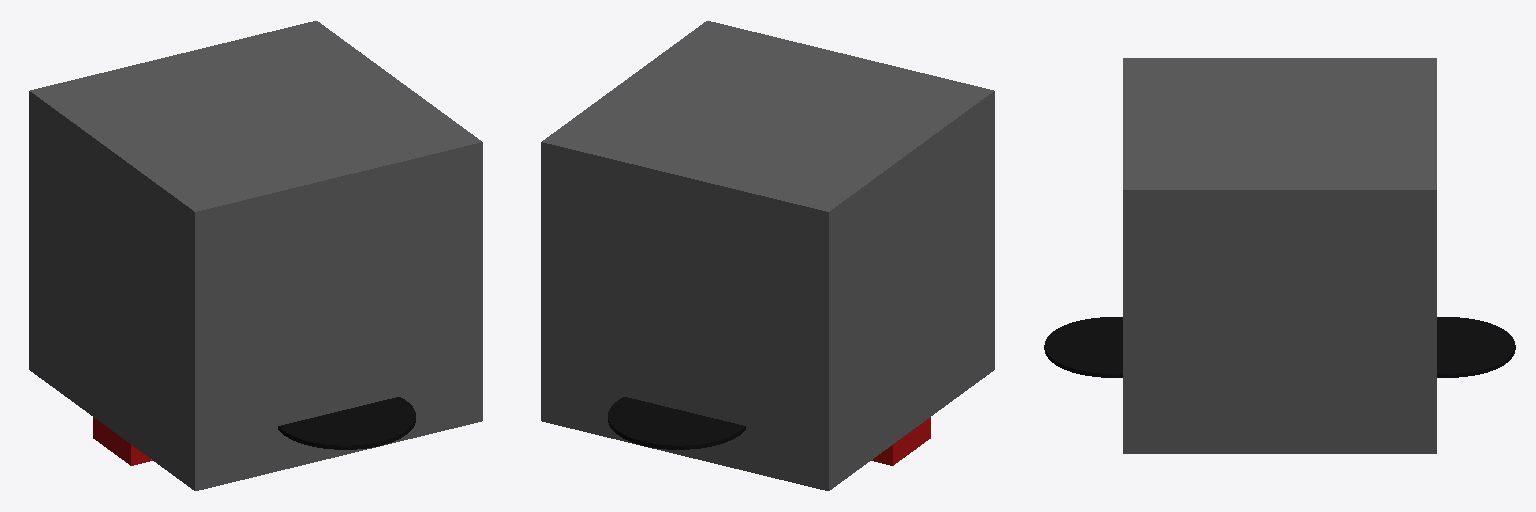
robot.urdf — little_car:
<?xml version="1.0"?>
<robot name="little_car">
  <material name="body_gray"><color rgba="0.4 0.4 0.4 1.0"/></material>
  <material name="wheel_black"><color rgba="0.1 0.1 0.1 1.0"/></material>
  <material name="support_red"><color rgba="0.7 0.1 0.1 1.0"/></material>

  <link name="base_footprint"/>

  <link name="chassis">
    <visual>
      <origin xyz="0 0 0" rpy="0 0 0"/>
      <geometry><mesh filename="../meshes/chassis_top.obj"/></geometry>
      <material name="body_gray"/>
    </visual>
    <visual>
      <origin xyz="0.017500 0.000000 0.000000" rpy="0 0 0"/>
      <geometry><box size="0.035000 0.070000 0.065000"/></geometry>
      <material name="body_gray"/>
    </visual>
    <visual>
      <origin xyz="-0.017500 0.000000 0.000000" rpy="0 0 0"/>
      <geometry><box size="0.035000 0.070000 0.065000"/></geometry>
      <material name="body_gray"/>
    </visual>
    <collision>
      <origin xyz="0.017500 0.000000 0.000000" rpy="0 0 0"/>
      <geometry><box size="0.035000 0.070000 0.065000"/></geometry>
    </collision>
    <collision>
      <origin xyz="-0.017500 0.000000 0.000000" rpy="0 0 0"/>
      <geometry><box size="0.035000 0.070000 0.065000"/></geometry>
    </collision>
    <inertial>
      <origin xyz="0.000000 0.000000 0.000000" rpy="0 0 0"/>
      <mass value="0.350000"/>
      <inertia ixx="0.000266146" ixy="0" ixz="0" iyy="0.000266146" iyz="0" izz="0.000285833"/>
    </inertial>
  </link>

  <link name="left_wheel">
    <visual>
      <origin xyz="0 0 0" rpy="0 1.57079632679 0"/>
      <geometry><mesh filename="../meshes/wheel.obj"/></geometry>
      <material name="wheel_black"/>
    </visual>
    <collision>
      <origin xyz="0 0 0" rpy="1.57079632679 0 0"/>
      <geometry><cylinder radius="0.015000" length="0.001000"/></geometry>
    </collision>
    <inertial>
      <origin xyz="0 0 0" rpy="0 0 0"/>
      <mass value="0.050000"/>
      <inertia ixx="0.000002817" ixy="0" ixz="0" iyy="0.000005625" iyz="0" izz="0.000002817"/>
    </inertial>
  </link>

  <link name="right_wheel">
    <visual>
      <origin xyz="0 0 0" rpy="0 1.57079632679 0"/>
      <geometry><mesh filename="../meshes/wheel.obj"/></geometry>
      <material name="wheel_black"/>
    </visual>
    <collision>
      <origin xyz="0 0 0" rpy="1.57079632679 0 0"/>
      <geometry><cylinder radius="0.015000" length="0.001000"/></geometry>
    </collision>
    <inertial>
      <origin xyz="0 0 0" rpy="0 0 0"/>
      <mass value="0.050000"/>
      <inertia ixx="0.000002817" ixy="0" ixz="0" iyy="0.000005625" iyz="0" izz="0.000002817"/>
    </inertial>
  </link>

  <link name="rear_support">
    <visual>
      <origin xyz="-0.001000 0.000000 0.000000" rpy="0 0 0"/>
      <geometry><box size="0.008000 0.016000 0.005000"/></geometry>
      <material name="support_red"/>
    </visual>
    <collision>
      <origin xyz="-0.001000 0.000000 0.000000" rpy="0 0 0"/>
      <geometry><box size="0.008000 0.016000 0.005000"/></geometry>
    </collision>
    <inertial>
      <origin xyz="-0.001000 0.000000 0.000000" rpy="0 0 0"/>
      <mass value="0.050000"/>
      <inertia ixx="0.000001171" ixy="0" ixz="0" iyy="0.000000371" iyz="0" izz="0.000001333"/>
    </inertial>
  </link>

  <joint name="base_to_chassis" type="fixed">
    <parent link="base_footprint"/>
    <child link="chassis"/>
    <origin xyz="0.000000 0.000000 0.037500" rpy="0 0 0"/>
  </joint>

  <joint name="left_wheel_joint" type="continuous">
    <parent link="chassis"/>
    <child link="left_wheel"/>
    <origin xyz="0.000000 0.037500 -0.022500" rpy="0 0 0"/>
    <axis xyz="0 1 0"/>
  </joint>

  <joint name="right_wheel_joint" type="continuous">
    <parent link="chassis"/>
    <child link="right_wheel"/>
    <origin xyz="0.000000 -0.037500 -0.022500" rpy="0 0 0"/>
    <axis xyz="0 1 0"/>
  </joint>

  <joint name="rear_support_joint" type="fixed">
    <parent link="chassis"/>
    <child link="rear_support"/>
    <origin xyz="-0.030000 0.000000 -0.035000" rpy="0 0 0"/>
  </joint>
</robot>

--- Render facts (derived) ---
The picture shows the robot from 3 angles, left to right: view 1: azimuth 30°, elevation 25°; view 2: azimuth 150°, elevation 25°; view 3: azimuth 270°, elevation 25°; orthographic projection.
Model little_car with 5 links and 4 joints (2 continuous, 2 fixed), rooted at base_footprint, posed every joint at zero.
Visible links, largest first — view 1: chassis, right_wheel, rear_support; view 2: chassis, left_wheel, rear_support; view 3: chassis, left_wheel, right_wheel.
Link boxes in pixels (left/top/right/bottom): chassis: left=29, top=21, right=482, bottom=490; right_wheel: left=278, top=397, right=415, bottom=449; rear_support: left=93, top=417, right=152, bottom=465; chassis: left=541, top=21, right=994, bottom=490; left_wheel: left=608, top=397, right=745, bottom=449; rear_support: left=871, top=417, right=930, bottom=465; chassis: left=1123, top=58, right=1436, bottom=453; left_wheel: left=1437, top=317, right=1515, bottom=377; right_wheel: left=1044, top=317, right=1122, bottom=377.
Bounding box of the posed robot: 0.07 × 0.105 × 0.07 m (x, y, z).
3 mesh visuals loaded from 2 distinct referenced files (2 OBJ).
